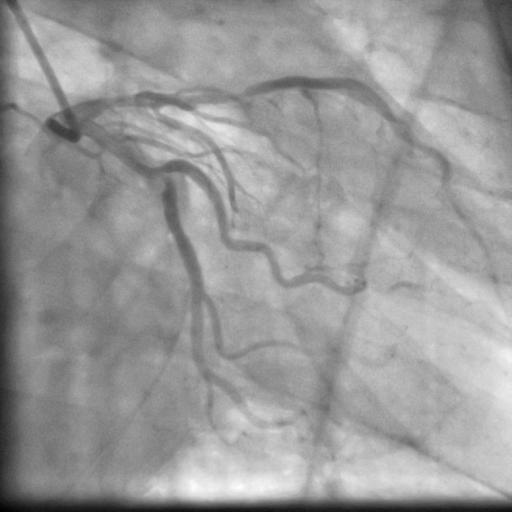Stenosis: (185, 82, 253, 101)
